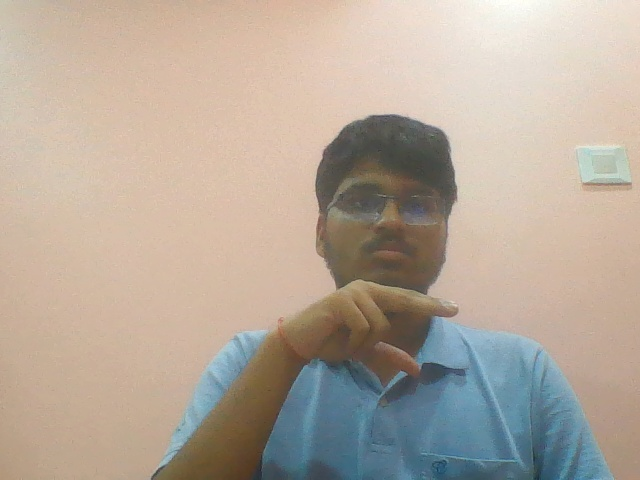no: (256, 272, 476, 389)
